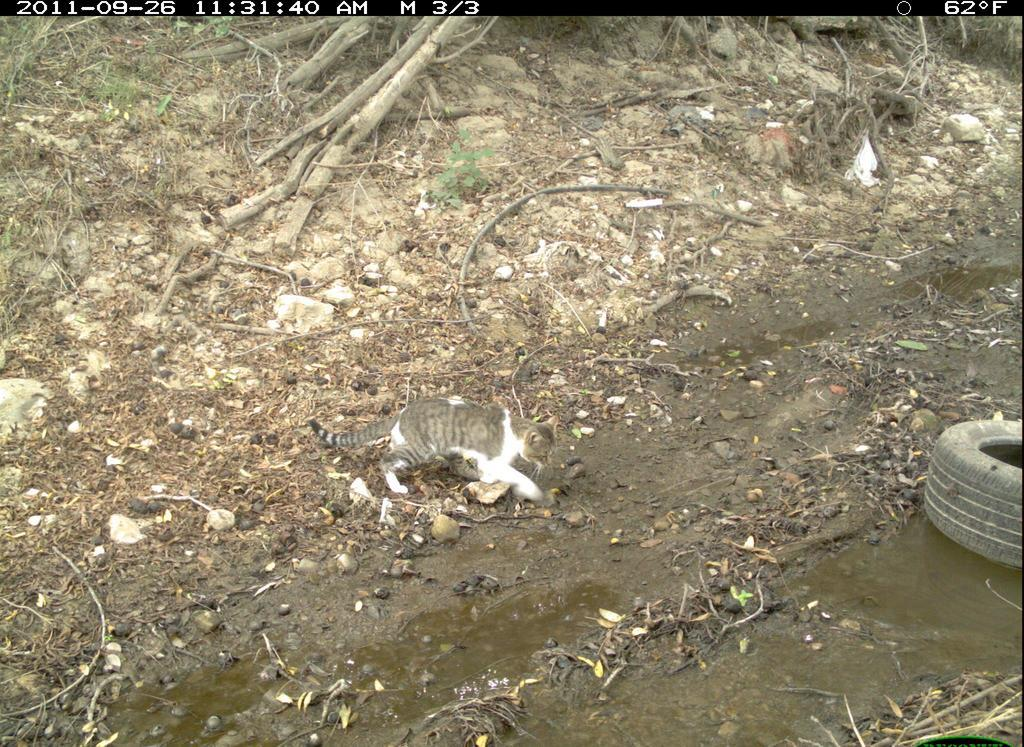cat: (309, 390, 564, 509)
